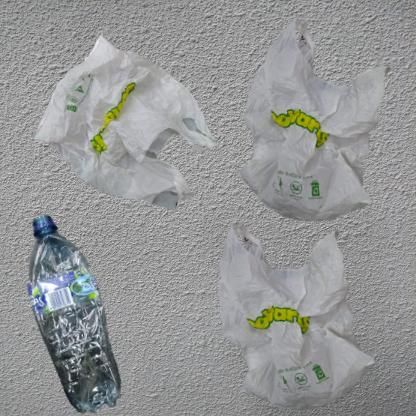bolsa: (10, 10, 243, 252), (213, 10, 416, 269), (213, 213, 380, 416)
botella: (10, 213, 148, 416)
